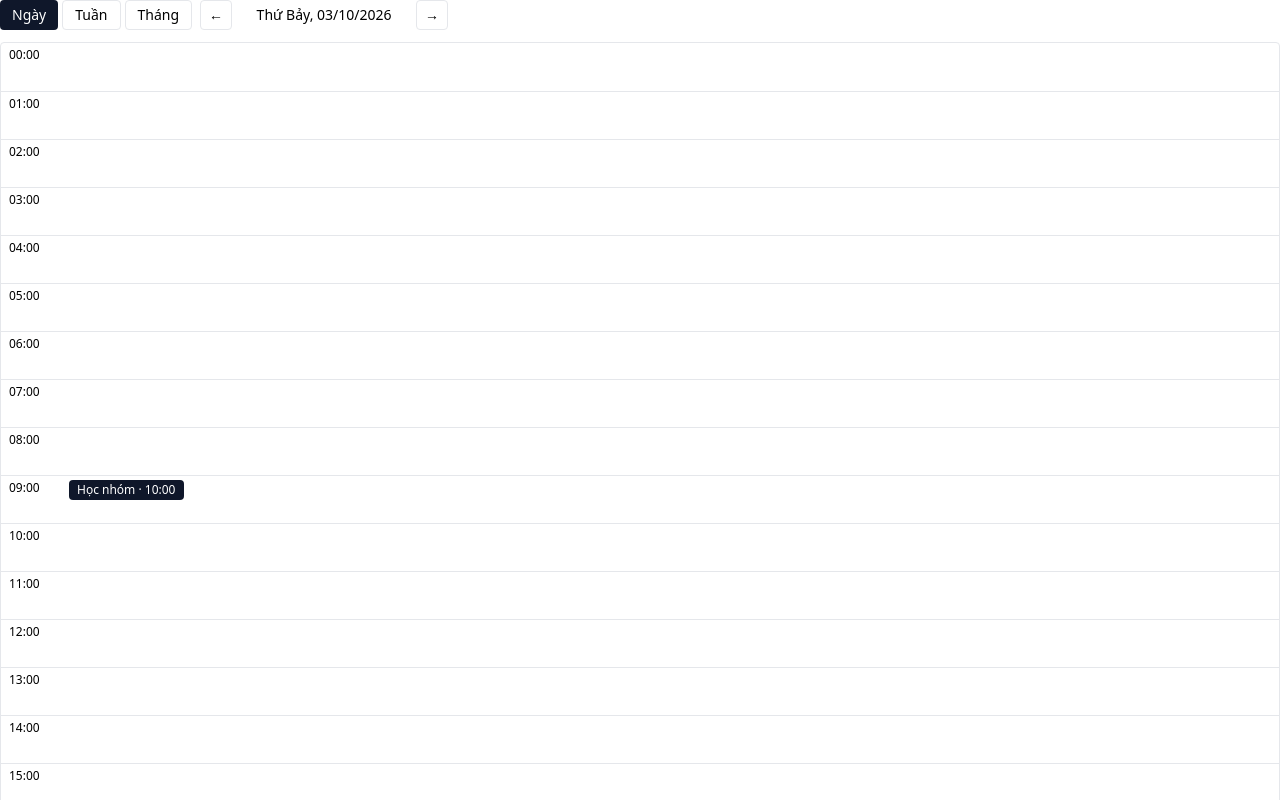
Test: CalendarView navigation › hiển thị nhãn ngày, tuần, tháng cho từng chế độ
Check: the text "Thứ Bảy, 03/10/2026" is shown, box [257,5,392,24]
Click the button "Tuần".
click(91, 15)  # box [62,0,121,30]
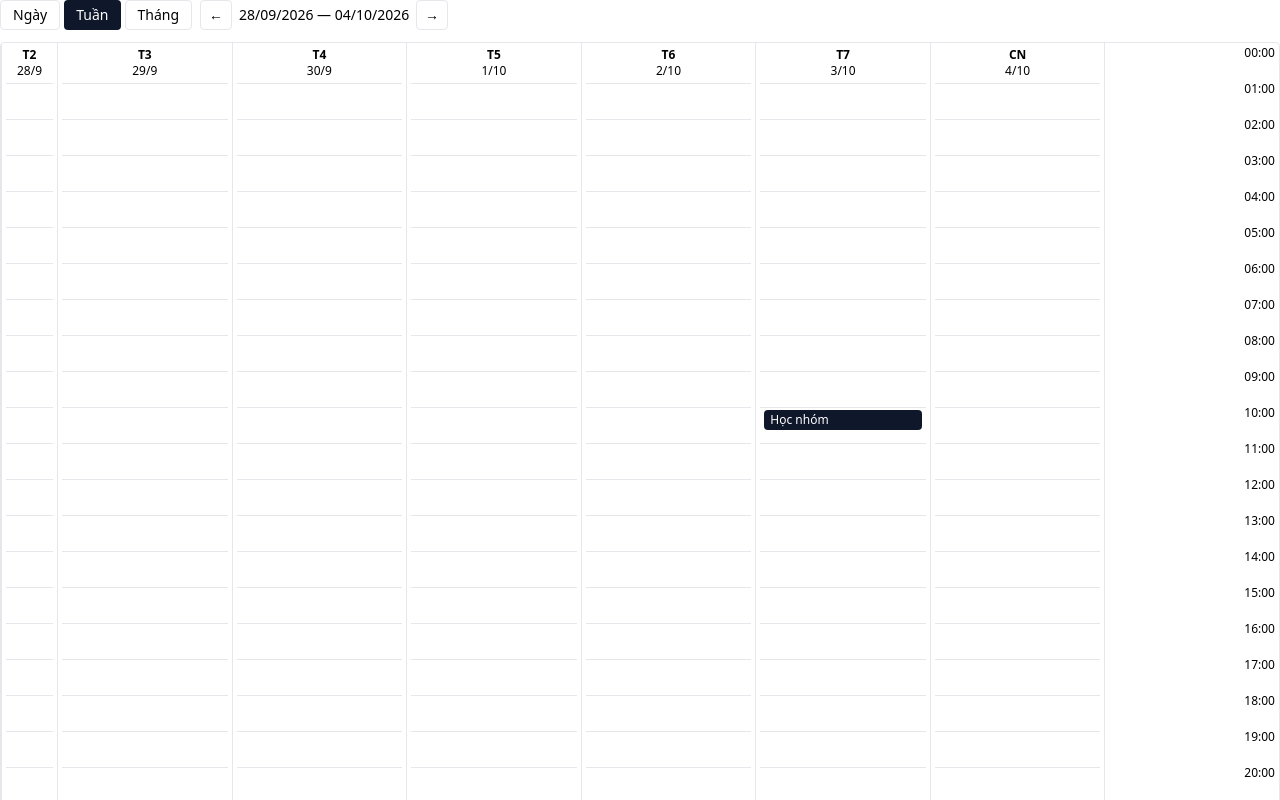
Check: the text "28/09/2026 — 04/10/2026" is shown, box [236,5,412,25]
Click the button "Tháng".
click(158, 15)  # box [124,0,192,30]
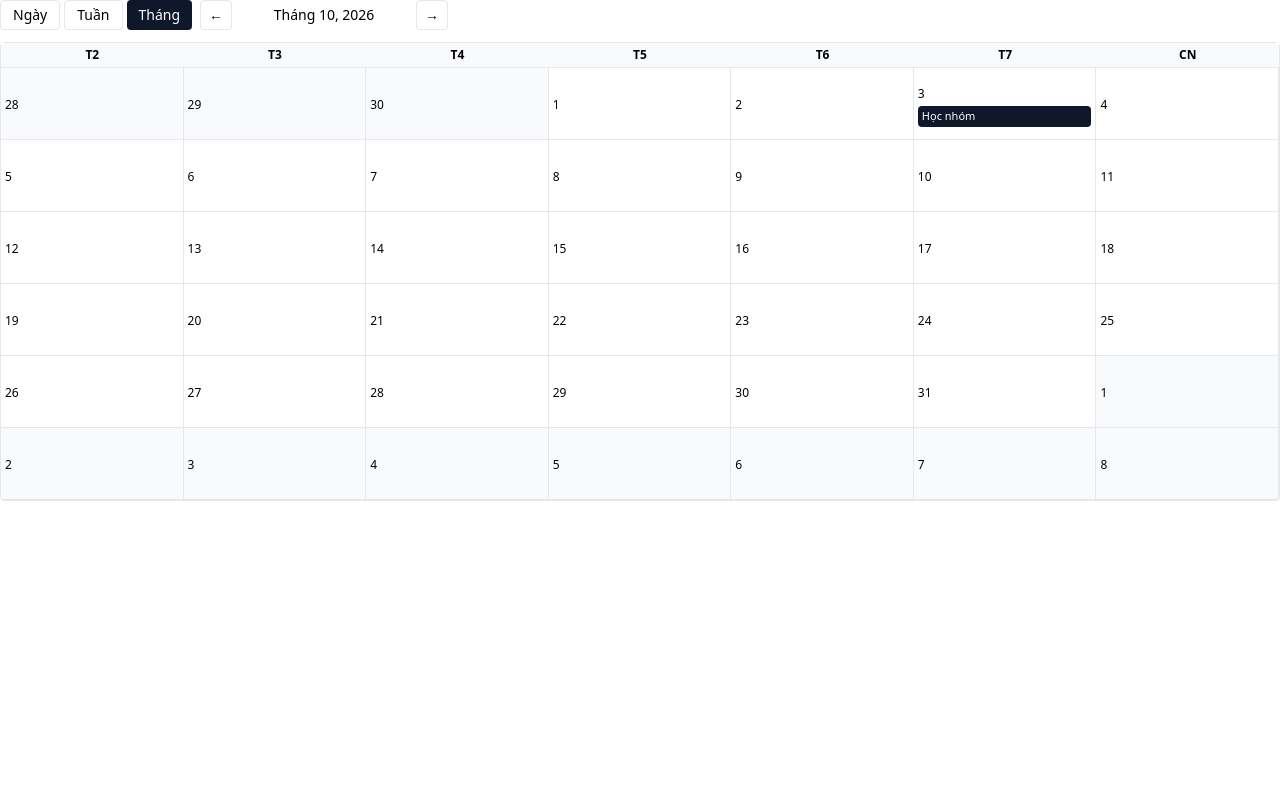
Check: the text "Tháng 10, 2026" is shown, box [274,5,374,24]
